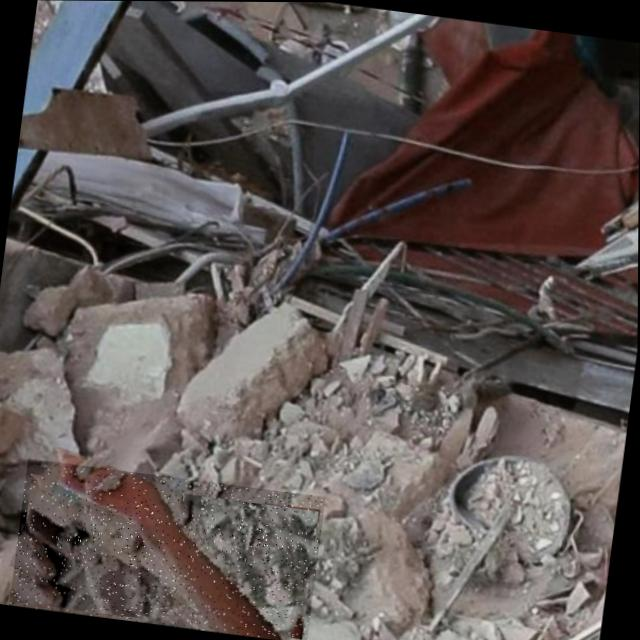Person in Rubble: (9, 457, 326, 640)
